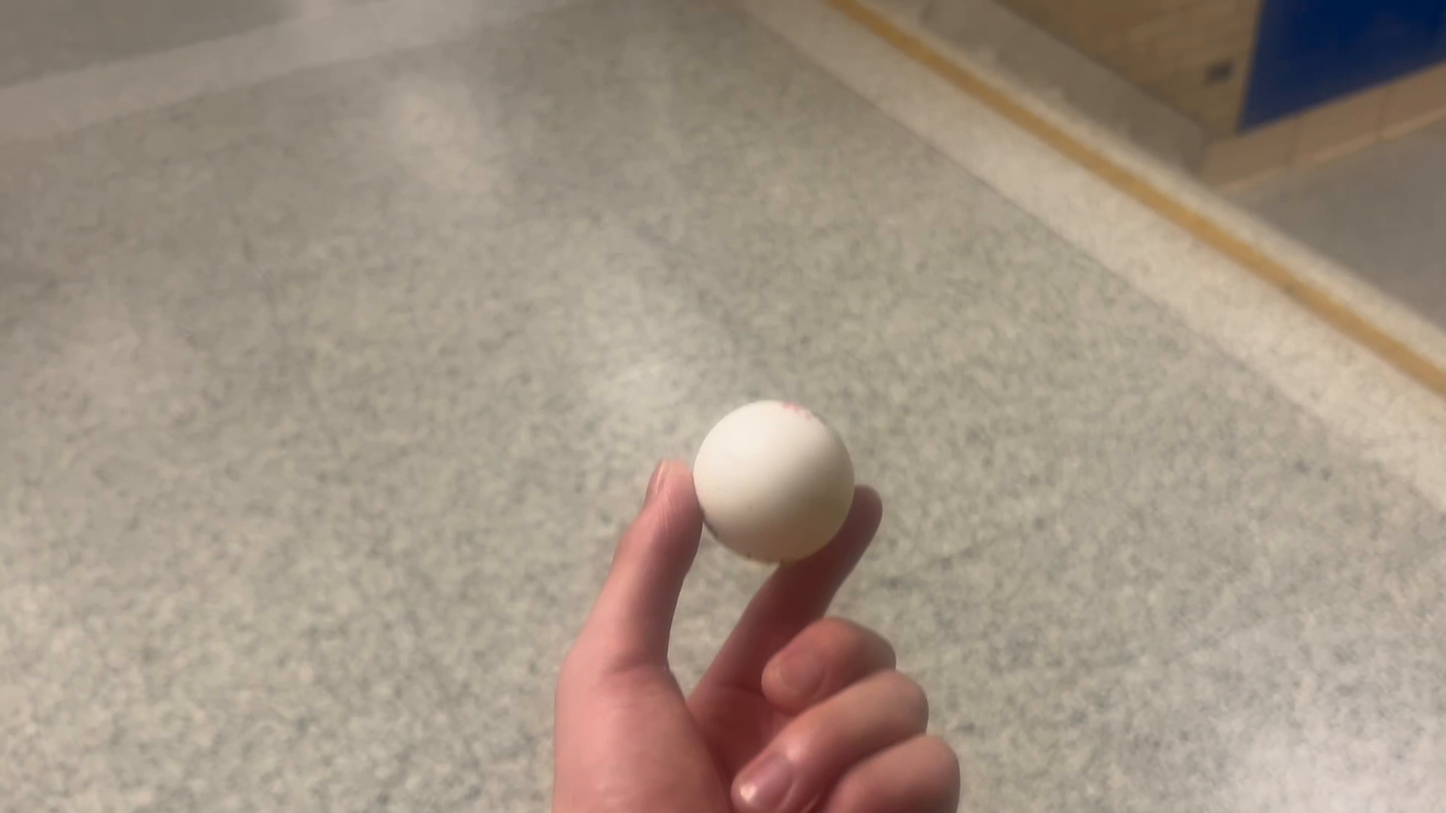Ball: (681, 383, 858, 581)
